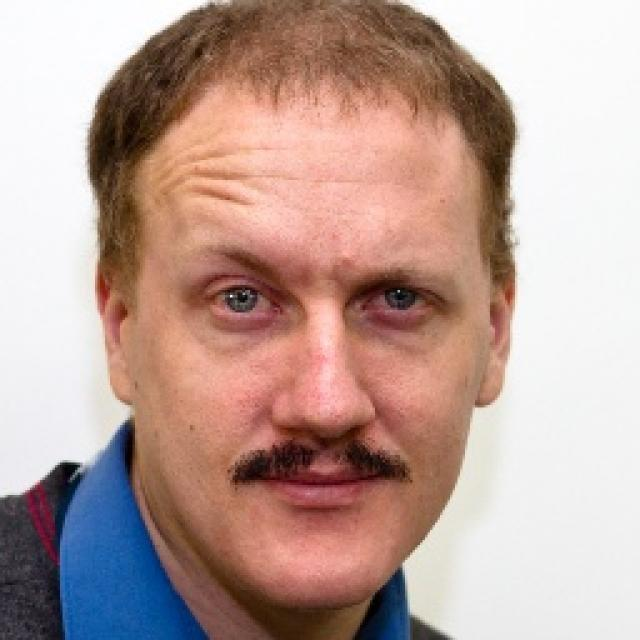earlobe: (474, 346, 509, 410), (108, 354, 140, 408)
eye: (204, 279, 274, 322), (364, 285, 436, 320)
nose: (274, 417, 375, 460)
wholeear: (96, 262, 140, 408), (474, 262, 517, 410)
